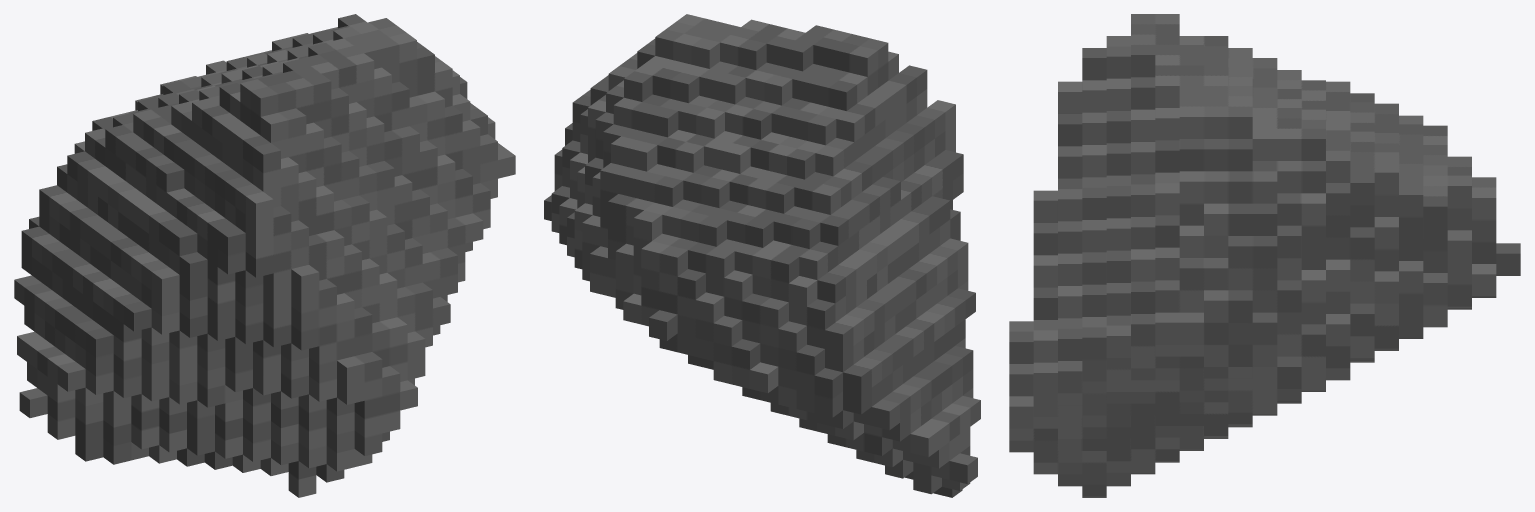
Rendered from Asteroid_A2.fbx.
The picture shows the model from 3 angles, left to right: view 1: azimuth 30°, elevation 25°; view 2: azimuth 150°, elevation 25°; view 3: azimuth 270°, elevation 25°; orthographic projection. The views are drawn at different scales.
Visible parts, largest first — view 1: T1-1; view 2: T1-1; view 3: T1-1.
Part boxes in pixels (x1,y1,x2,y2): T1-1: (14, 14, 515, 497); T1-1: (544, 14, 980, 497); T1-1: (1009, 14, 1520, 497).
Size of the model in its own units: 240 by 210 by 210.
